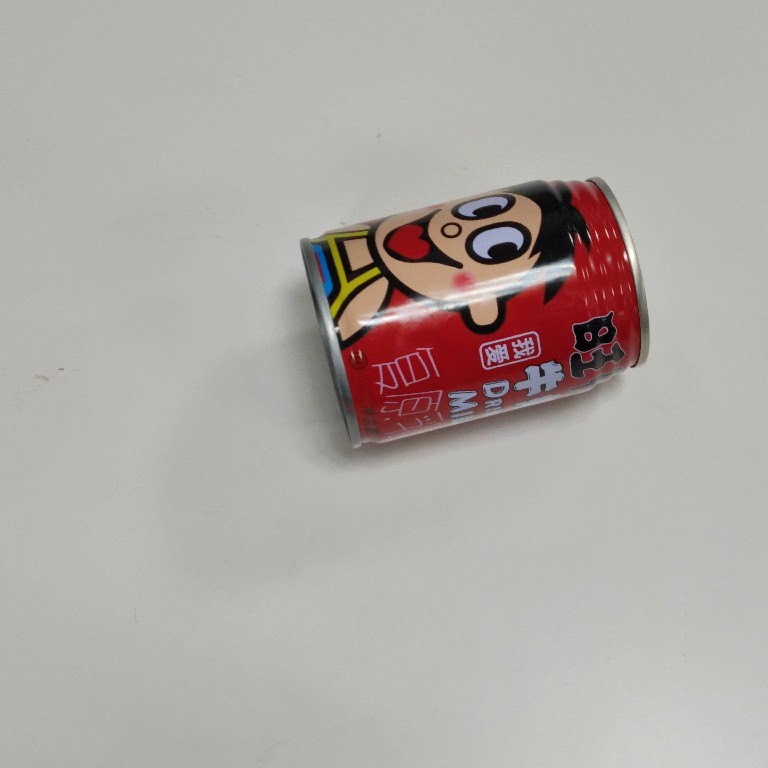can: (294, 169, 655, 451)
